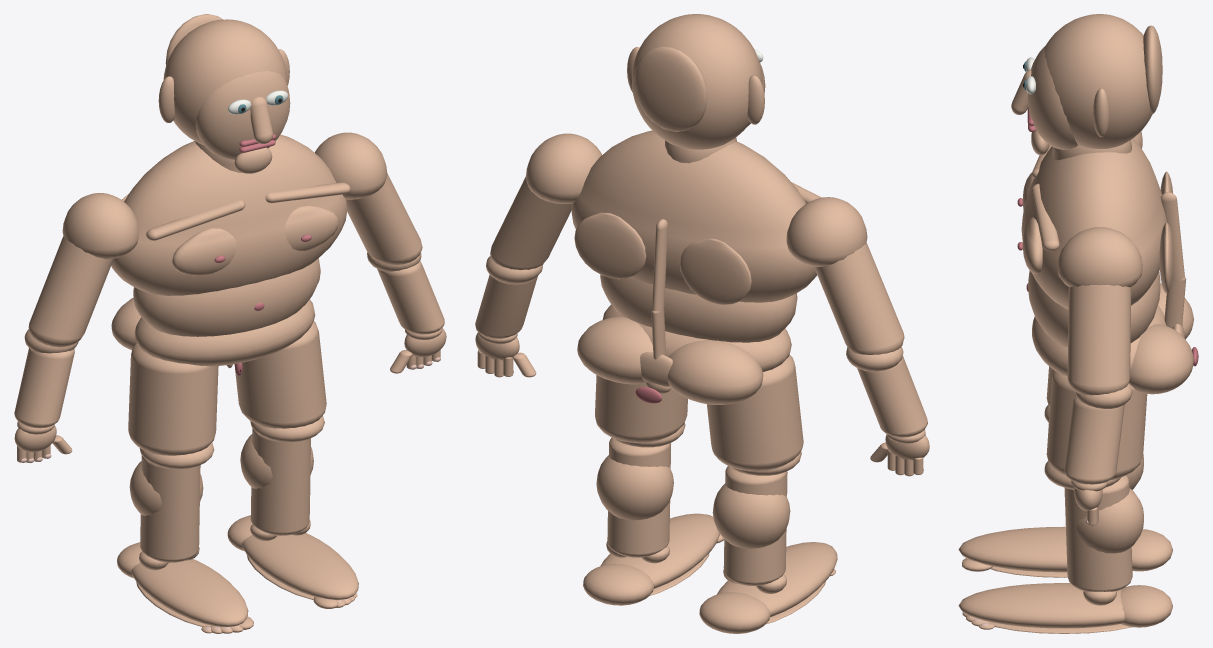
The model's file is body-baby-maennlich-v2.glb.
The picture shows the model from 3 angles, left to right: view 1: azimuth 30°, elevation 25°; view 2: azimuth 150°, elevation 25°; view 3: azimuth 270°, elevation 25°; orthographic projection. The views are drawn at different scales.
Parts seen in each view (by area): view 1: zone__surface-chest, zone__surface-thigh-left, zone__surface-abdomen, zone__surface-scalp, zone__surface-thigh-right, zone__surface-upper-arm-left, zone__surface-pelvis, zone__surface-foot-right, zone__surface-foot-left, zone__surface-lower-leg-left, zone__surface-lower-leg-right, zone__surface-face (+20 smaller); view 2: zone__surface-chest, zone__surface-scalp, zone__surface-thigh-left, zone__surface-abdomen, zone__surface-upper-arm-left, zone__surface-buttock-left, zone__surface-occiput, zone__surface-thigh-right, zone__surface-upper-arm-right, zone__surface-shoulder-left, zone__surface-shoulder-right, zone__surface-calf-right (+21 smaller); view 3: zone__surface-chest, zone__surface-scalp, zone__surface-upper-arm-right, zone__surface-foot-right, zone__surface-shoulder-right, zone__surface-lower-leg-right, zone__surface-forearm-right, zone__surface-thigh-right, zone__surface-foot-left, zone__surface-buttock-right, zone__surface-abdomen, zone__surface-calf-right (+20 smaller).
Boxes of the visible parts, x1,y1,x2,y2 form: zone__surface-chest: [111, 134, 347, 295]; zone__surface-thigh-left: [128, 344, 218, 455]; zone__surface-abdomen: [133, 258, 320, 336]; zone__surface-scalp: [163, 19, 287, 144]; zone__surface-thigh-right: [234, 321, 326, 428]; zone__surface-upper-arm-left: [28, 236, 113, 347]; zone__surface-pelvis: [134, 299, 315, 366]; zone__surface-foot-right: [242, 533, 358, 600]; zone__surface-foot-left: [131, 559, 248, 627]; zone__surface-lower-leg-left: [140, 455, 200, 562]; zone__surface-lower-leg-right: [250, 428, 310, 535]; zone__surface-face: [195, 71, 290, 159]; zone__surface-chest: [571, 130, 816, 302]; zone__surface-scalp: [632, 14, 762, 149]; zone__surface-thigh-left: [707, 354, 803, 471]; zone__surface-abdomen: [600, 274, 797, 342]; zone__surface-upper-arm-left: [814, 242, 904, 354]; zone__surface-buttock-left: [667, 340, 763, 404]; zone__surface-occiput: [634, 46, 707, 131]; zone__surface-thigh-right: [595, 375, 687, 442]; zone__surface-upper-arm-right: [490, 176, 571, 270]; zone__surface-shoulder-left: [786, 197, 867, 266]; zone__surface-shoulder-right: [526, 133, 601, 203]; zone__surface-calf-right: [596, 455, 673, 520]; zone__surface-chest: [1021, 138, 1166, 309]; zone__surface-scalp: [1044, 14, 1152, 148]; zone__surface-upper-arm-right: [1067, 285, 1131, 395]; zone__surface-foot-right: [958, 583, 1124, 628]; zone__surface-shoulder-right: [1057, 227, 1142, 287]; zone__surface-lower-leg-right: [1064, 475, 1132, 591]; zone__surface-forearm-right: [1064, 395, 1124, 484]; zone__surface-thigh-right: [1046, 370, 1147, 480]; zone__surface-foot-left: [958, 526, 1067, 572]; zone__surface-buttock-right: [1129, 324, 1193, 394]; zone__surface-abdomen: [1028, 270, 1160, 347]; zone__surface-calf-right: [1076, 488, 1143, 553].
Bounding box in the file's own units: 0.5549 × 0.6796 × 0.258.
